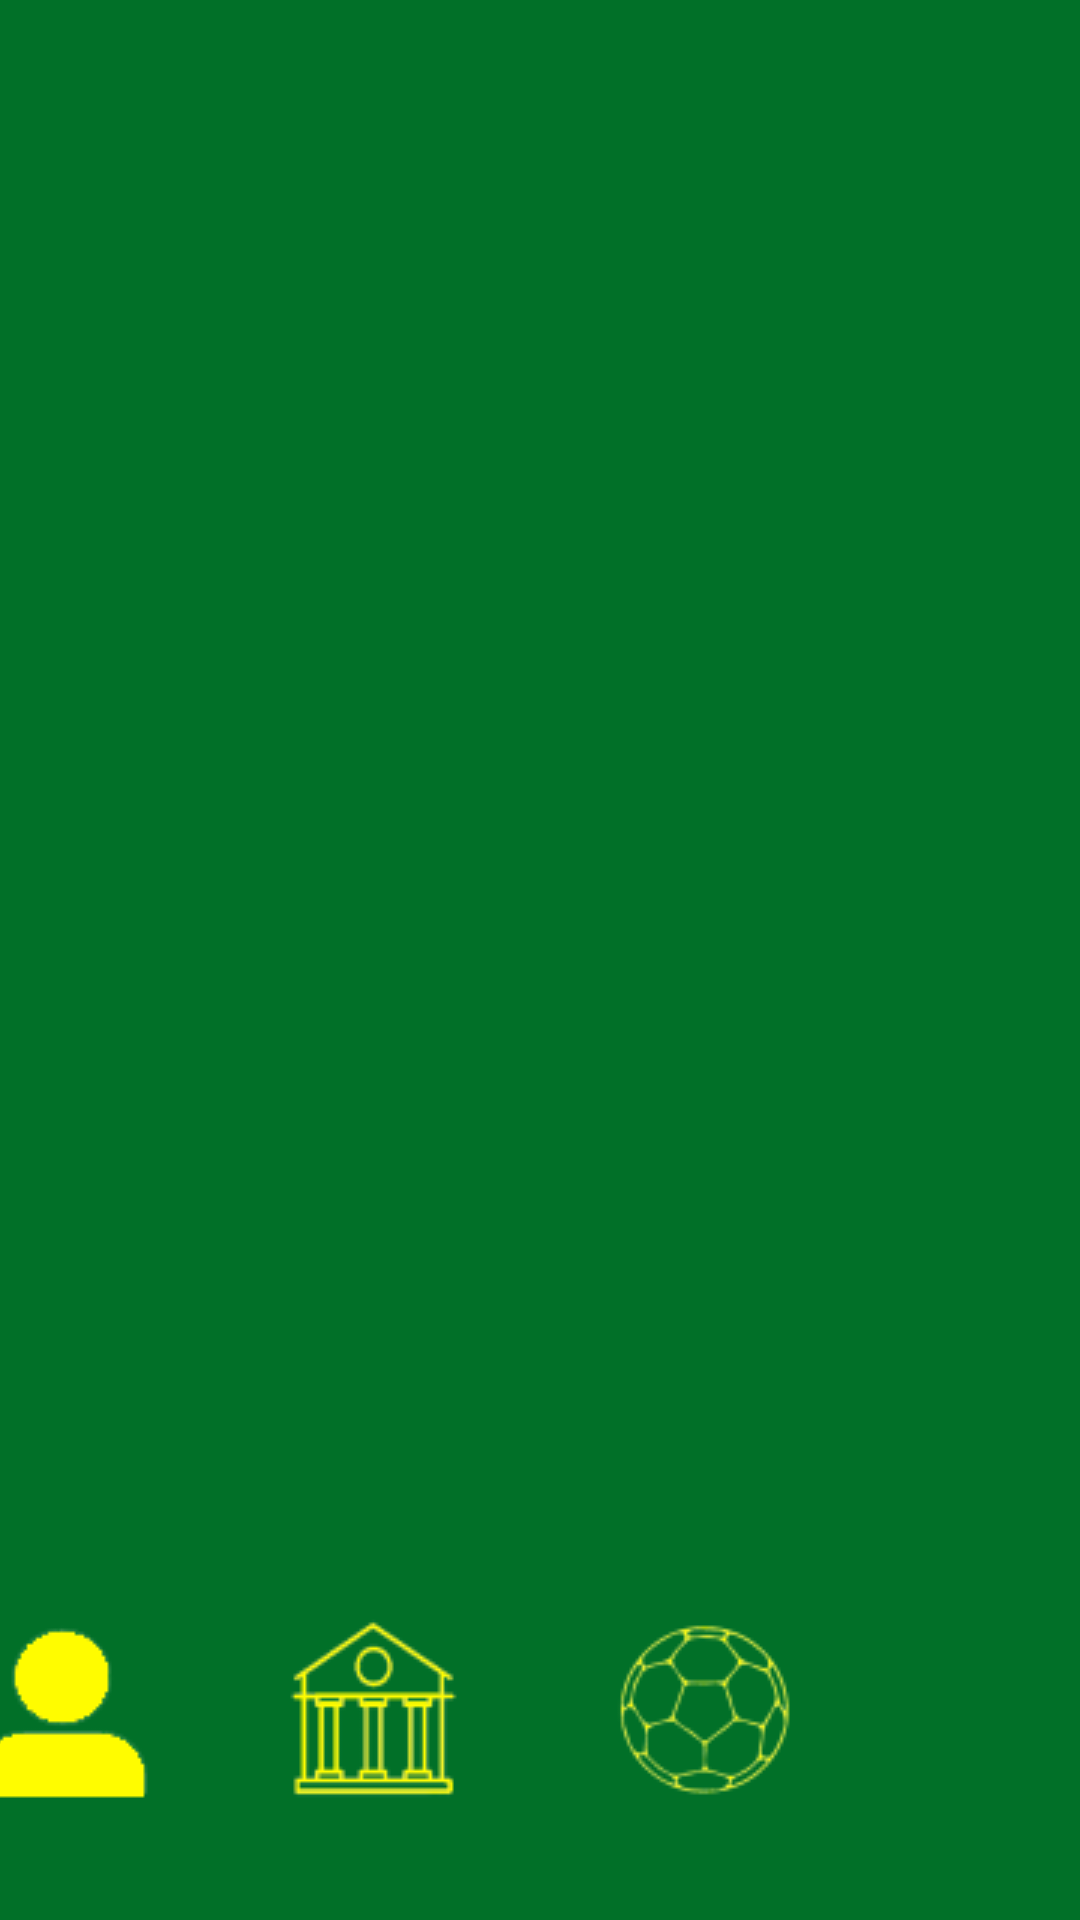

Point at icon controls on the screen. Image size 1080*1920, points as (x,y).
matches: (705,1710)
